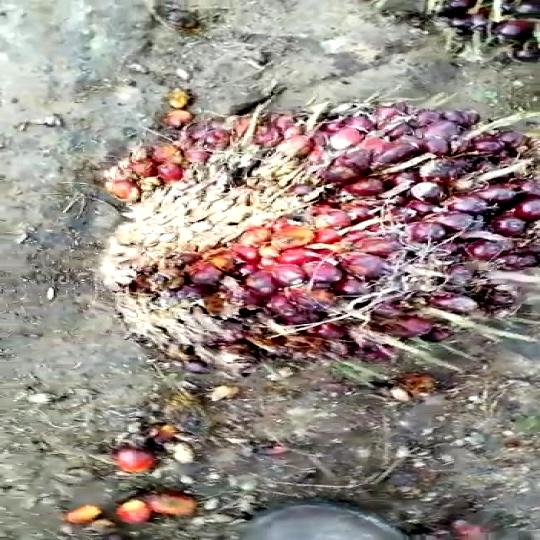masak: (47, 92, 540, 390)
